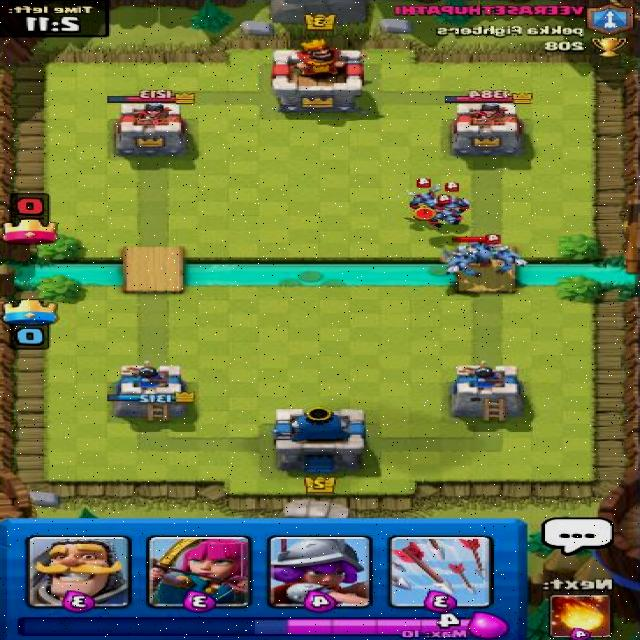Enemy-MiniPEKKA: (446, 233, 504, 268)
Enemy-Minion: (404, 176, 445, 212), (433, 180, 471, 215), (426, 194, 462, 229)
Player-Minion: (484, 244, 529, 275), (442, 248, 484, 279), (459, 240, 508, 266)
